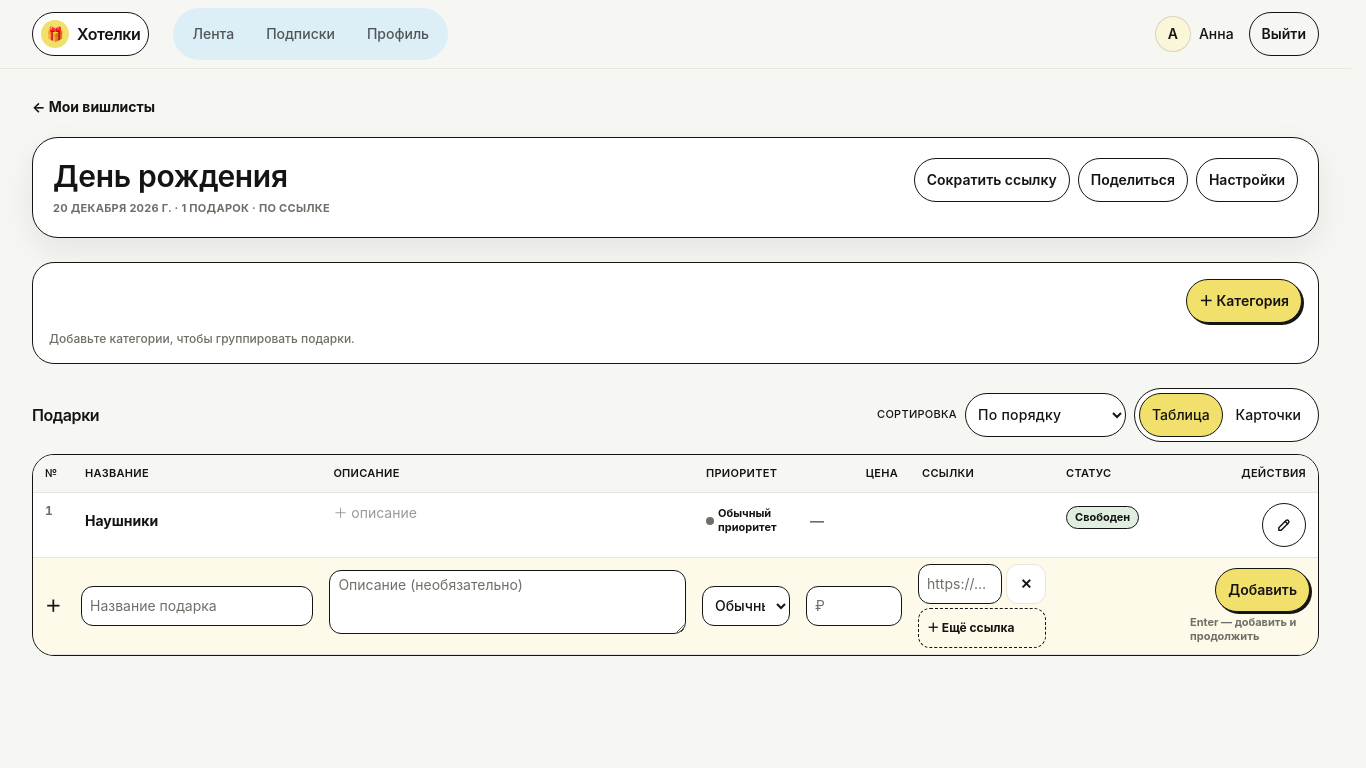
Scenario: иконка редактирования и модалка › смена статуса вызывает status-эндпоинт, PATCH не отправляется
Expected: the text "Наушники" is shown, [85,511,158,531]
Click the button named "Редактировать подарок": (1284, 525) [1262,503,1306,547]
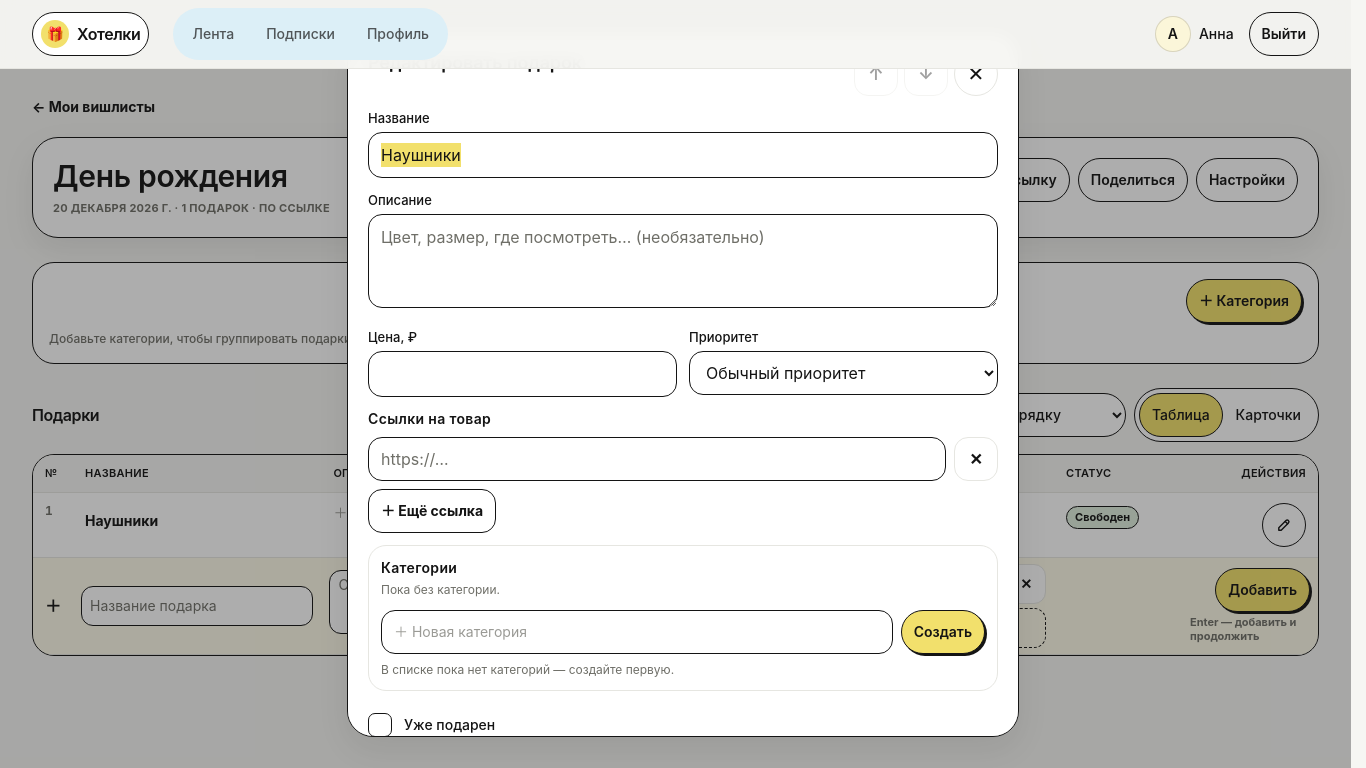
Click the checkbox labelled "Уже подарен": (380, 725) [358,703,402,747]
(page scrolled)
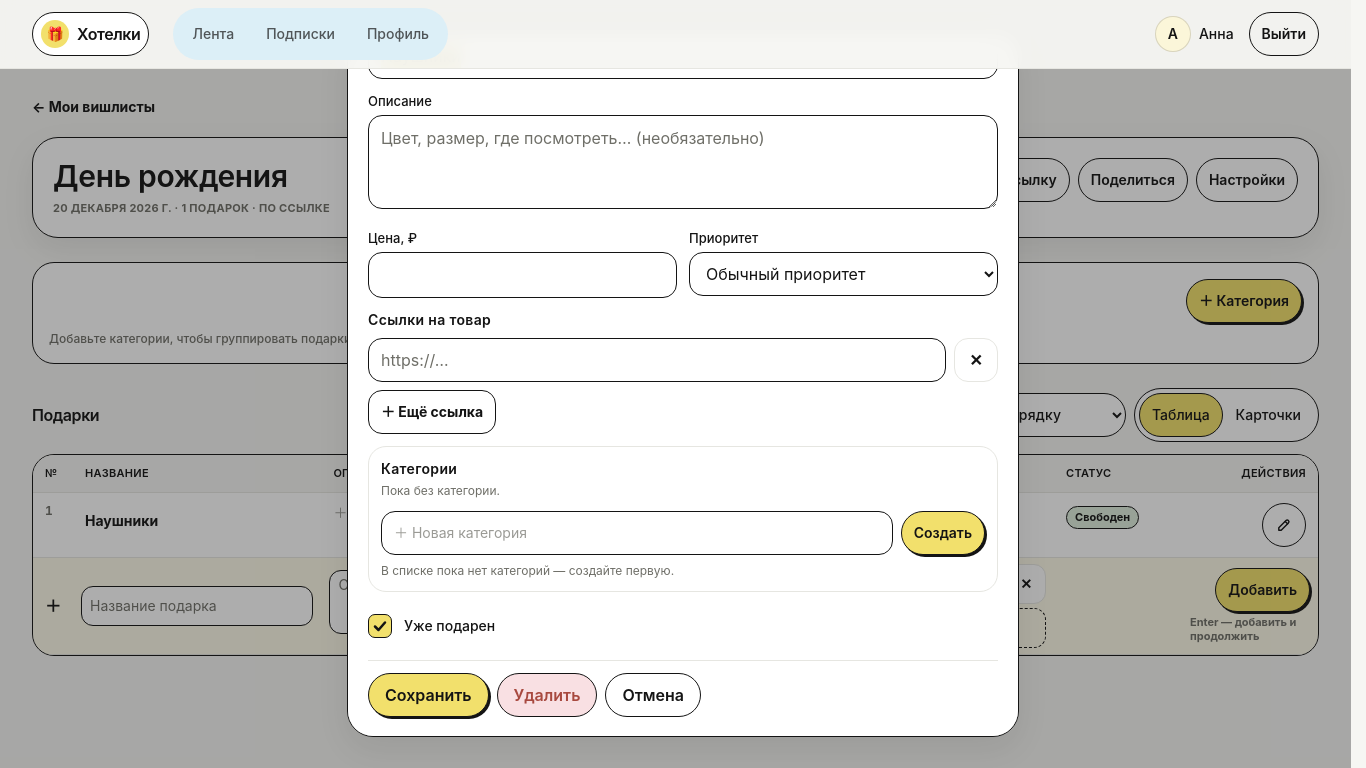
Click the button "Сохранить": (428, 695) [368,673,488,717]
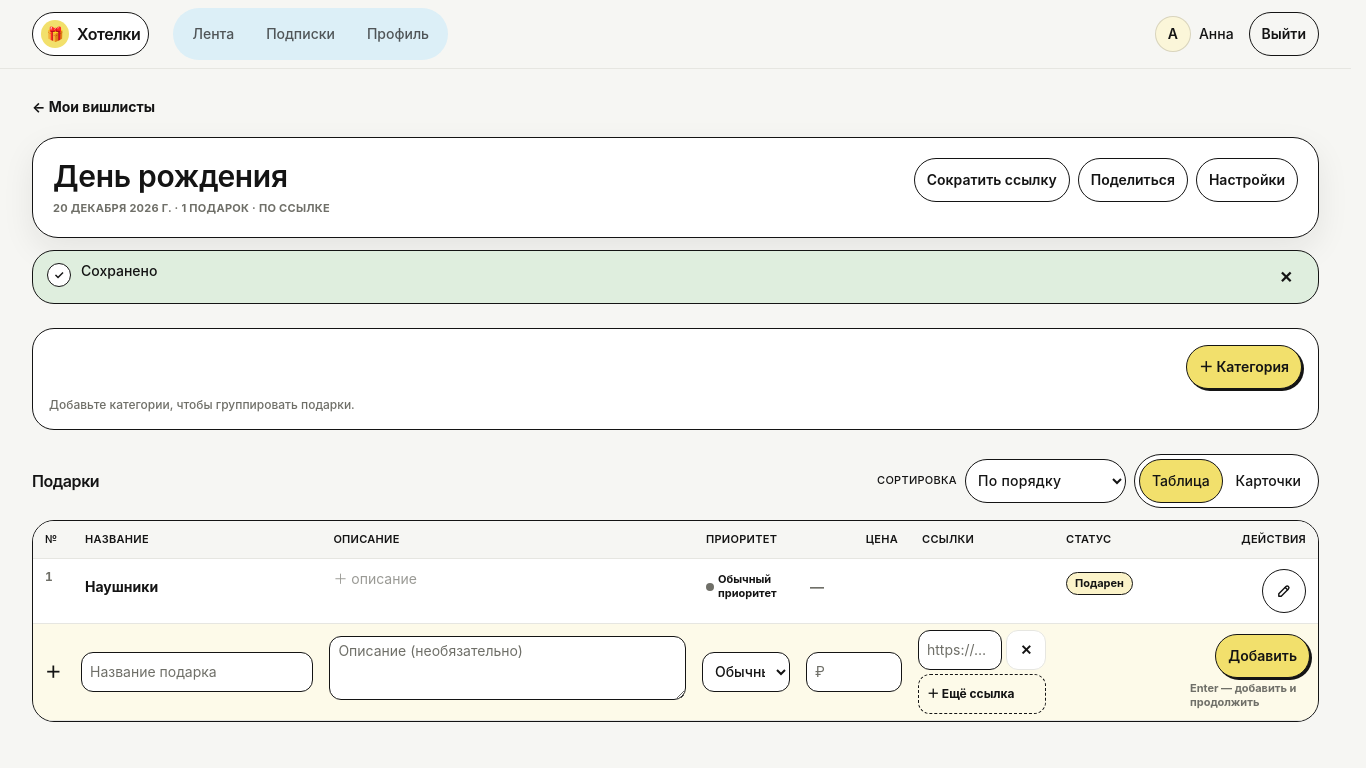
Result: the text "Сохранено" is shown at [81,262,157,278]
